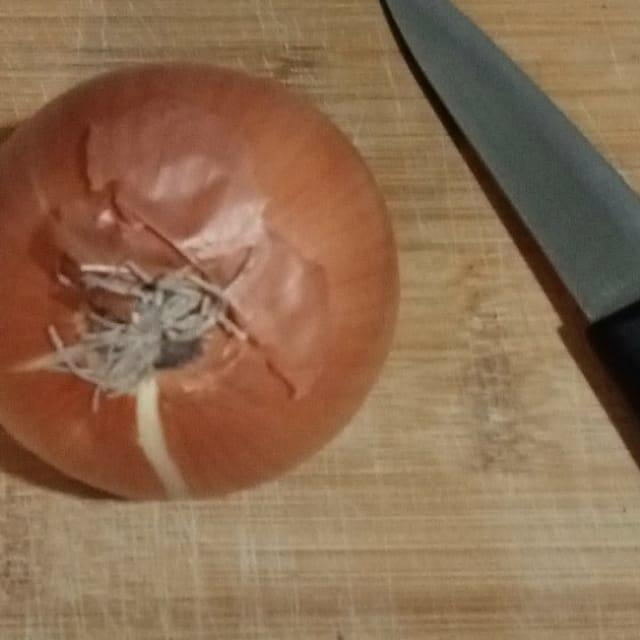onion: (0, 56, 418, 509)
